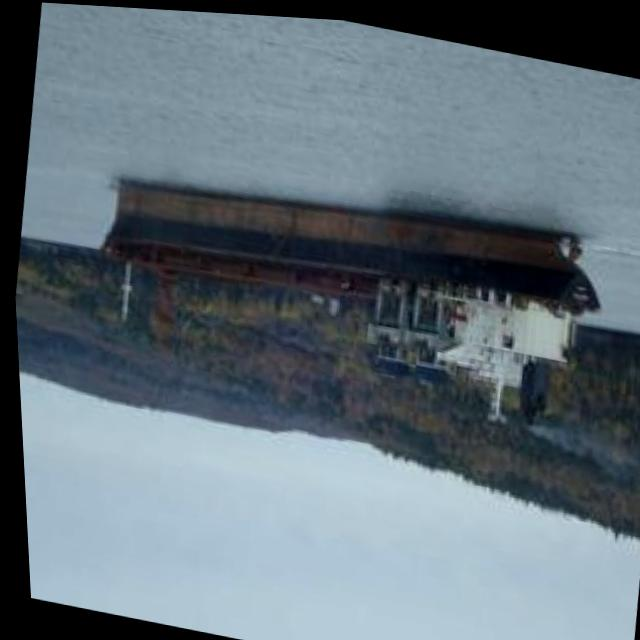ship2: (97, 173, 599, 416)
